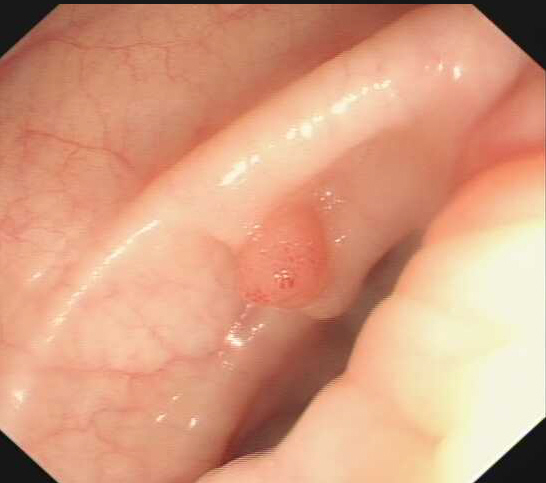adenoma: (237, 203, 334, 314)
